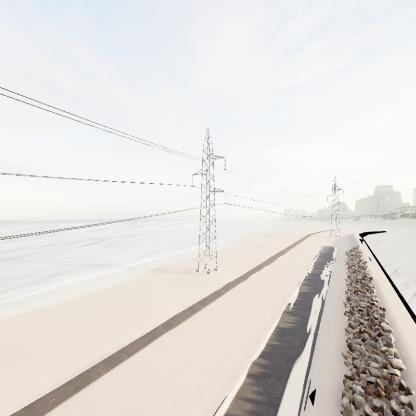tower: (189, 127, 229, 279)
